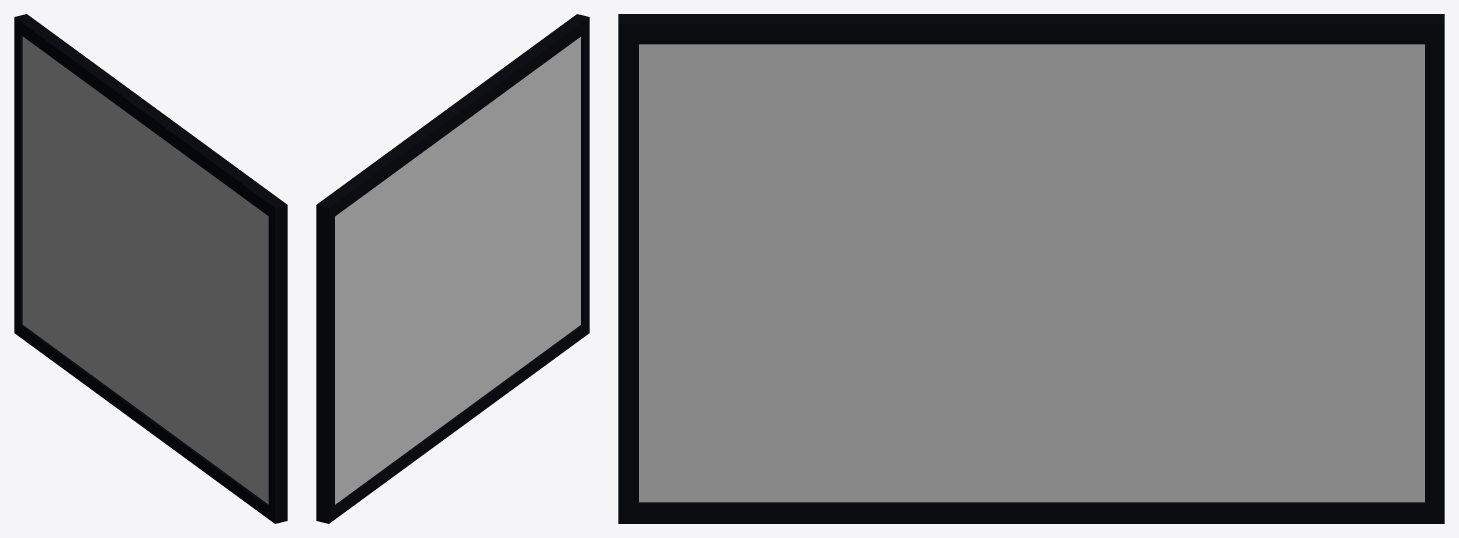
The model's file is PosterGalacticJunk.fbx.
3 renders of one model, left to right at view 1: azimuth 30°, elevation 25°; view 2: azimuth 150°, elevation 25°; view 3: azimuth 270°, elevation 25°, orthographic. The views are drawn at different scales.
Visible parts, largest first — view 1: PosterGalacticJunk; view 2: PosterGalacticJunk; view 3: PosterGalacticJunk.
Part boxes in pixels (x1,y1,x2,y2): PosterGalacticJunk: [14, 14, 287, 523]; PosterGalacticJunk: [316, 14, 589, 523]; PosterGalacticJunk: [618, 14, 1444, 523].
Bounding box in the file's own units: 6.87 × 163 × 245.
